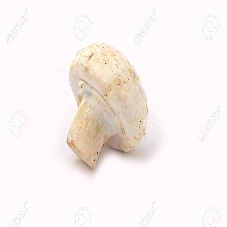mushroom: (67, 38, 154, 172)
